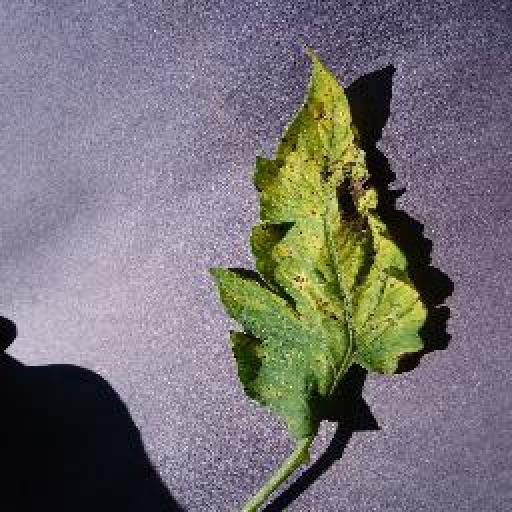disease_tomato: (205, 44, 431, 440)
